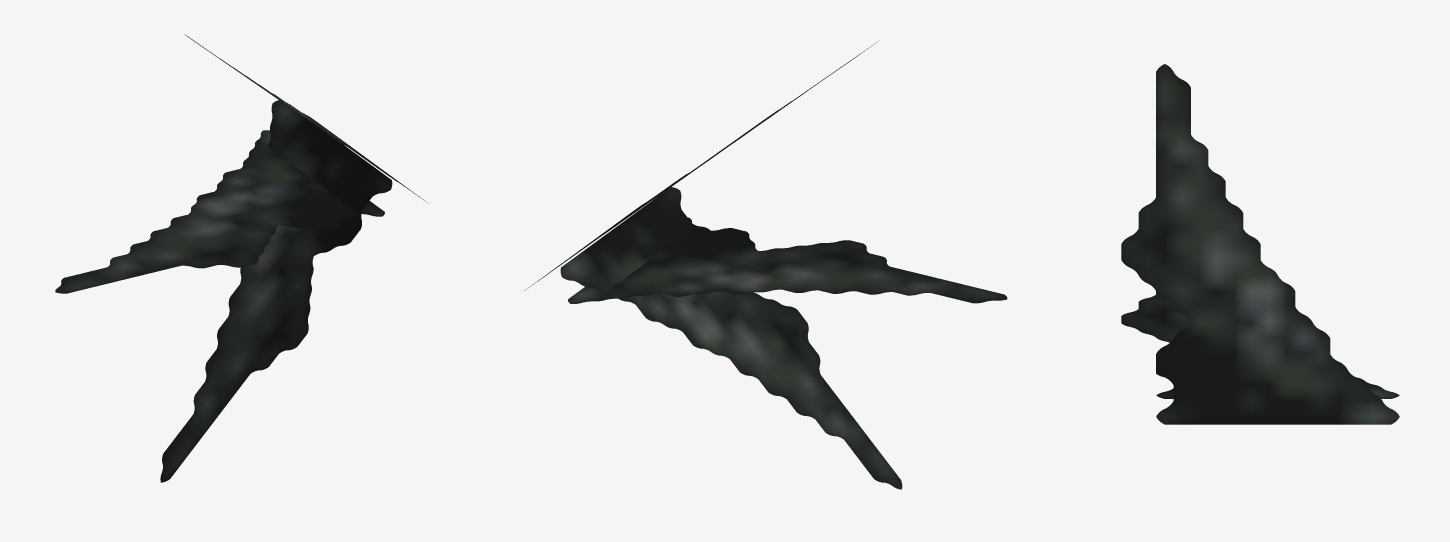
File: SM_EC_Tree_Part_Cross_08.fbx
3 views of the same model, side by side, from view 1: azimuth 30°, elevation 25°; view 2: azimuth 150°, elevation 25°; view 3: azimuth 270°, elevation 25° (orthographic). The views are drawn at different scales.
Visible parts, largest first — view 1: SM_EC_Tree_Part_Cross_08; view 2: SM_EC_Tree_Part_Cross_08; view 3: SM_EC_Tree_Part_Cross_08.
Part boxes in pixels (x1=…): SM_EC_Tree_Part_Cross_08: x1=55, y1=34, x2=428, y2=482; SM_EC_Tree_Part_Cross_08: x1=524, y1=42, x2=1007, y2=489; SM_EC_Tree_Part_Cross_08: x1=1121, y1=64, x2=1399, y2=424.
Size of the model in its own units: 0.467 by 0.3139 by 0.5193.
